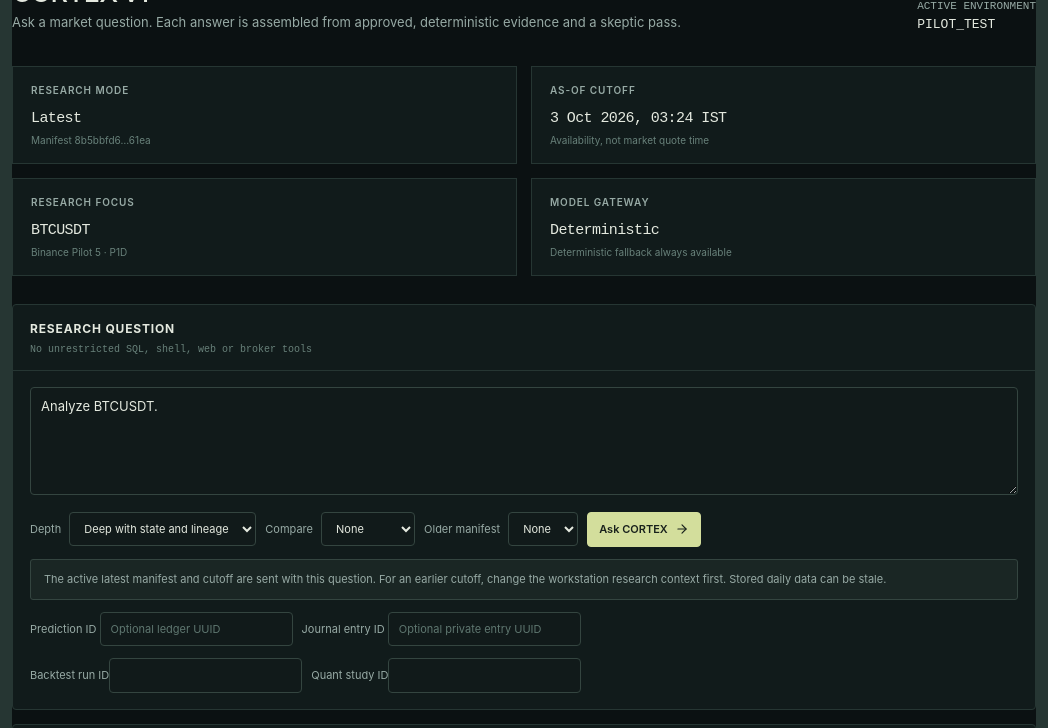
Scenario: CORTEX workstation › sends explicit market context and makes citations inspectable with no model
The image size is (1048, 728).
expect the text "PILOT_TEST" is shown: met, box [917,16,995,32]
expect the text box named "Ask CORTEX" holds "Analyze BTCUSDT.": met, box [30,386,1018,494]
Click the button "Ask CORTEX".
click(644, 529)  # box [587,512,701,546]
(page scrolled)
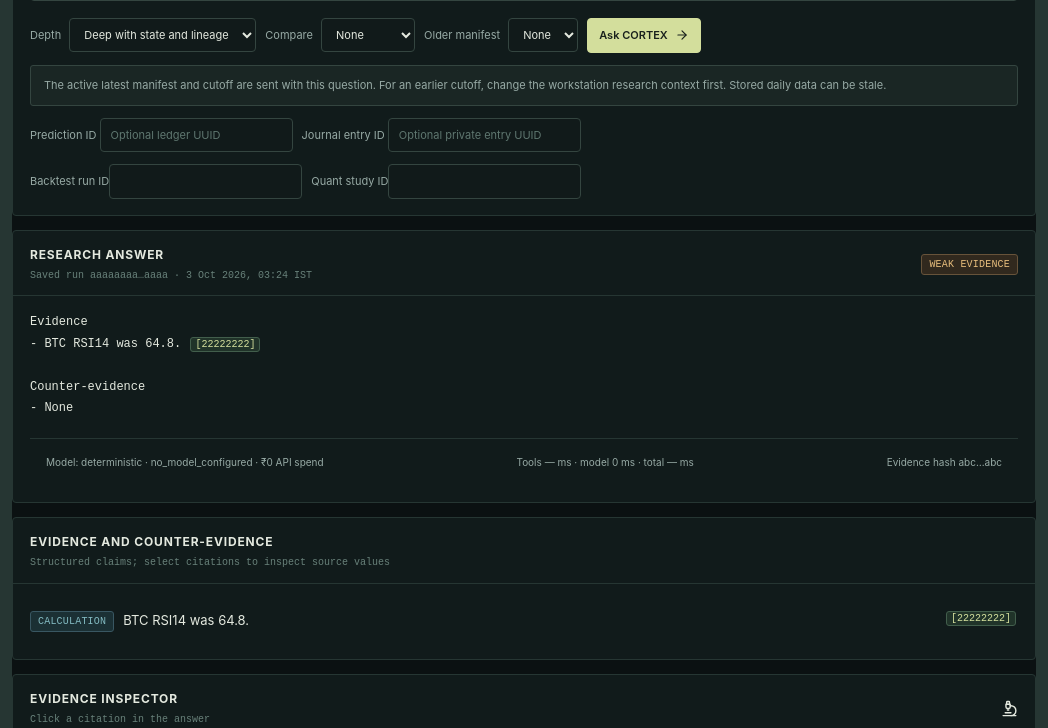
expect the text "Saved run aaaaaaaa…aaaa · 3 Oct 2026, 03:24 IST" is shown: met, box [30,270,312,281]
expect the text "Model: deterministic · no_model_configured · ₹0 API spend" is shown: met, box [46,455,324,470]
Click the button "[22222222]" below "Evidence - BTC RSI14 was 64.8.".
click(225, 344)  # box [190,337,260,352]
(page scrolled)
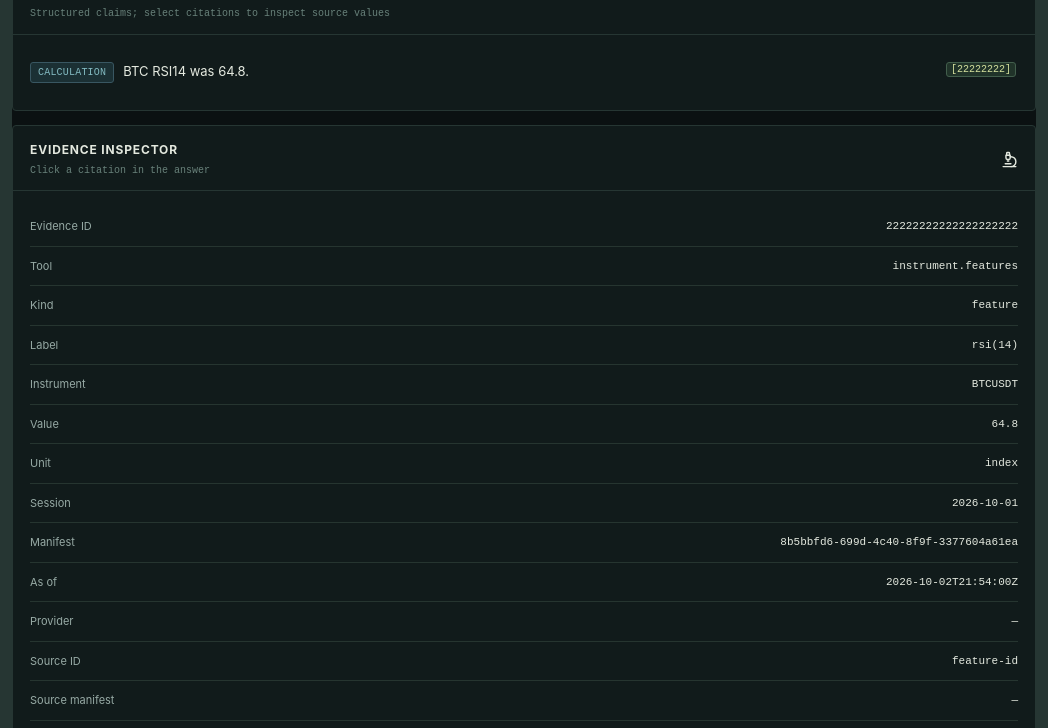
expect the text "64.8" is shown: met, box [992,418,1018,430]
expect the text "rsi(14)" is shown: met, box [972,339,1018,351]
